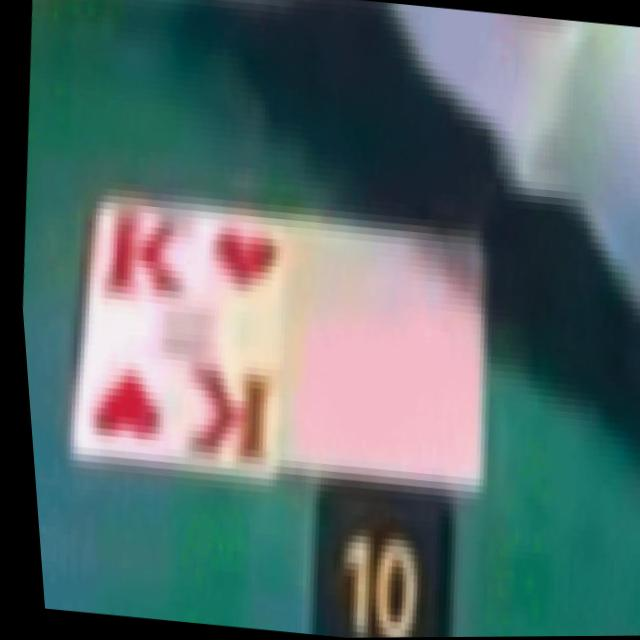Card-K: (71, 195, 289, 475)
